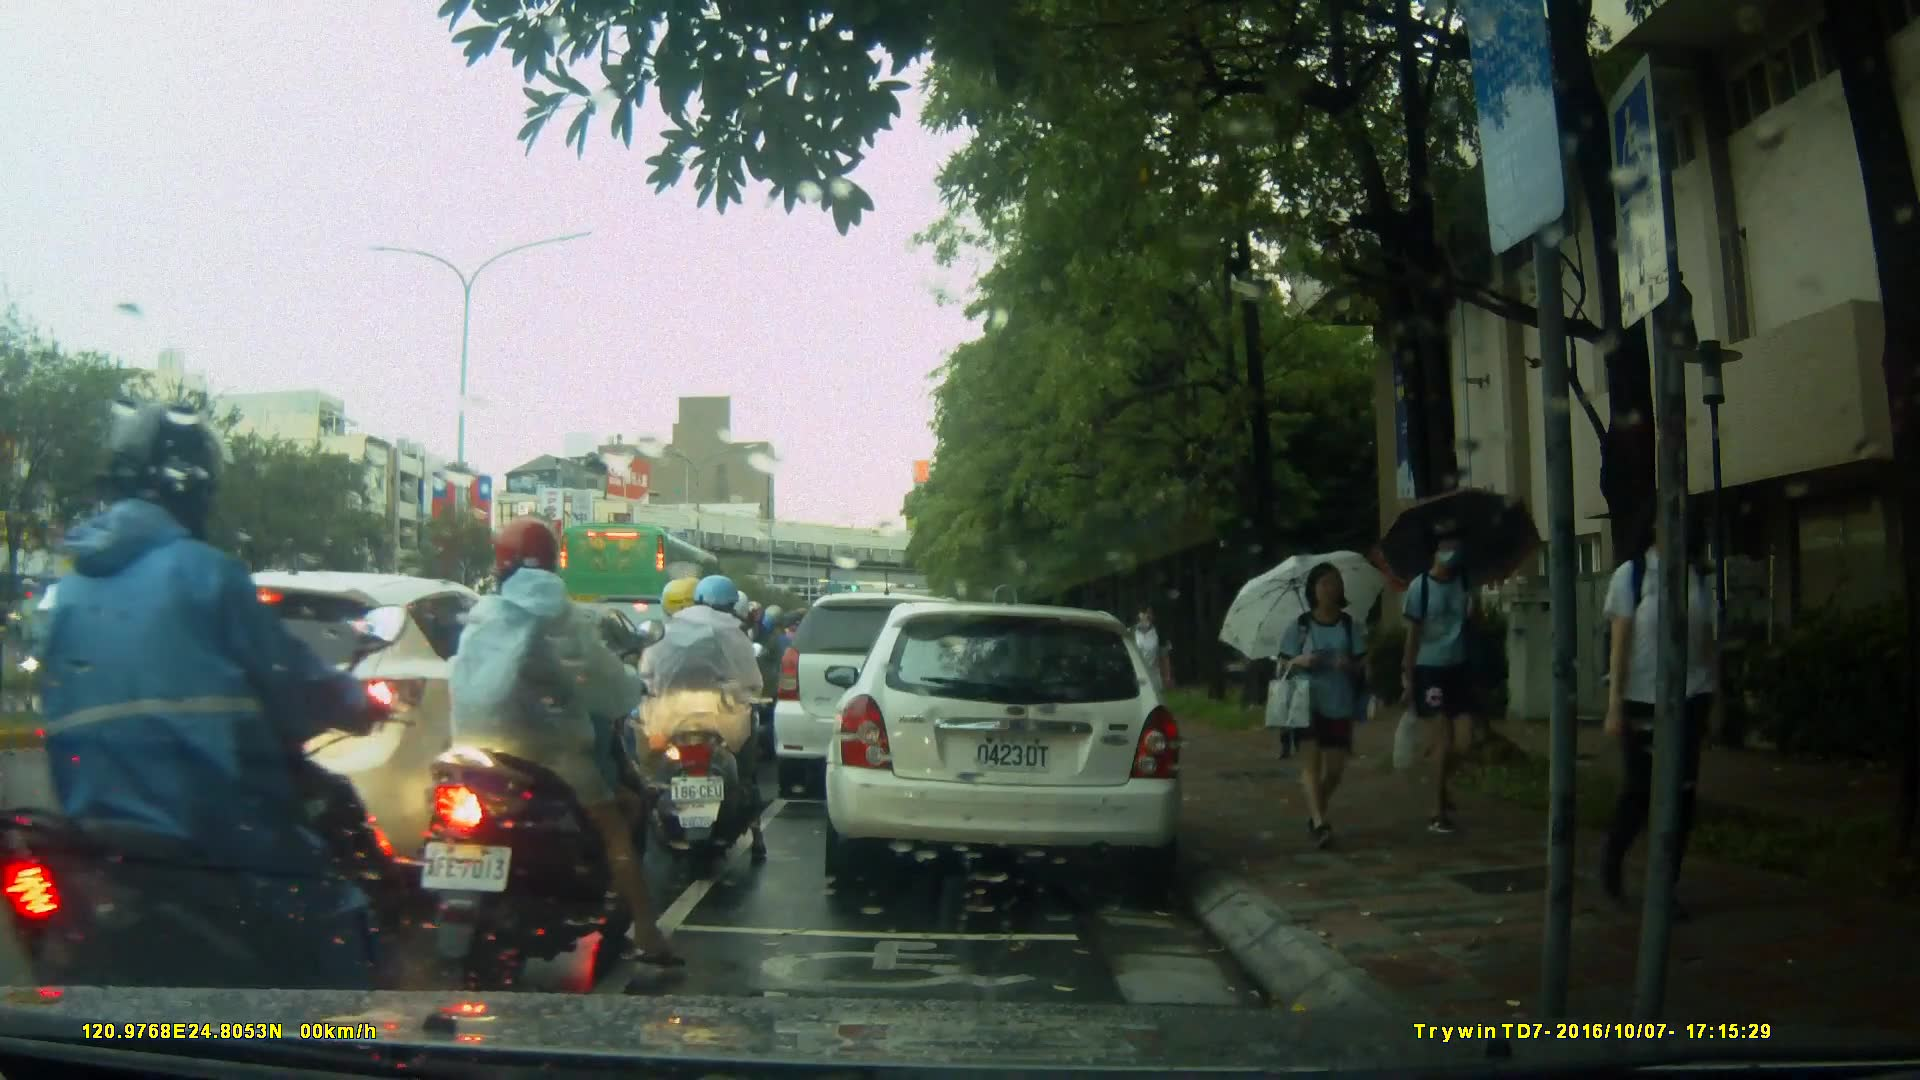pedestrian: (1595, 478, 1729, 924), (1383, 527, 1510, 846), (1273, 555, 1390, 862), (1269, 571, 1320, 770), (1126, 597, 1175, 755)
rider: (9, 396, 419, 1064), (418, 514, 693, 981), (621, 581, 775, 870), (664, 589, 762, 804)
vehicle: (99, 569, 596, 883), (822, 604, 1187, 883), (774, 595, 995, 802), (558, 521, 741, 664), (20, 576, 199, 697)
